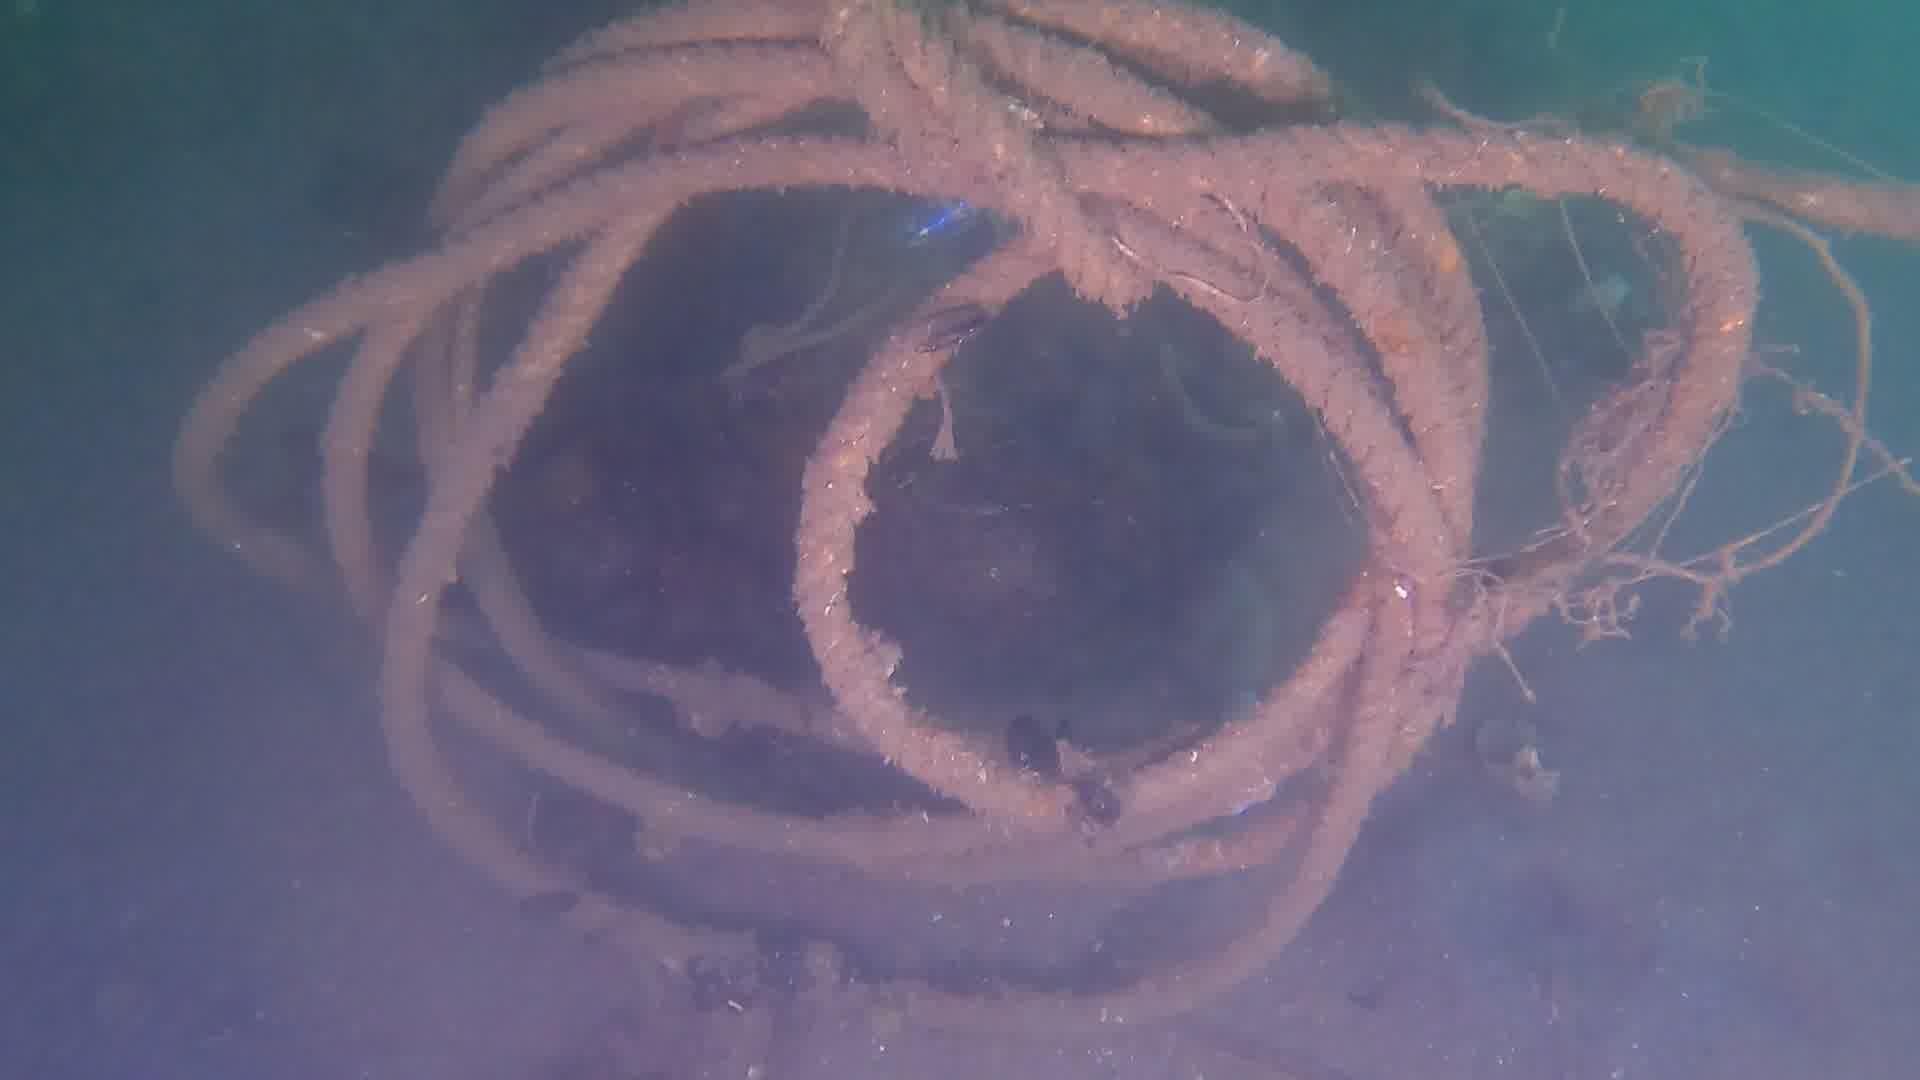bundle of ropes: (166, 5, 1920, 1036)
